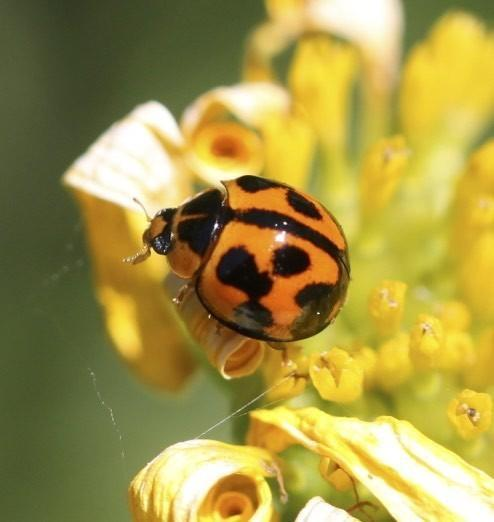ladybug: (120, 174, 355, 364)
